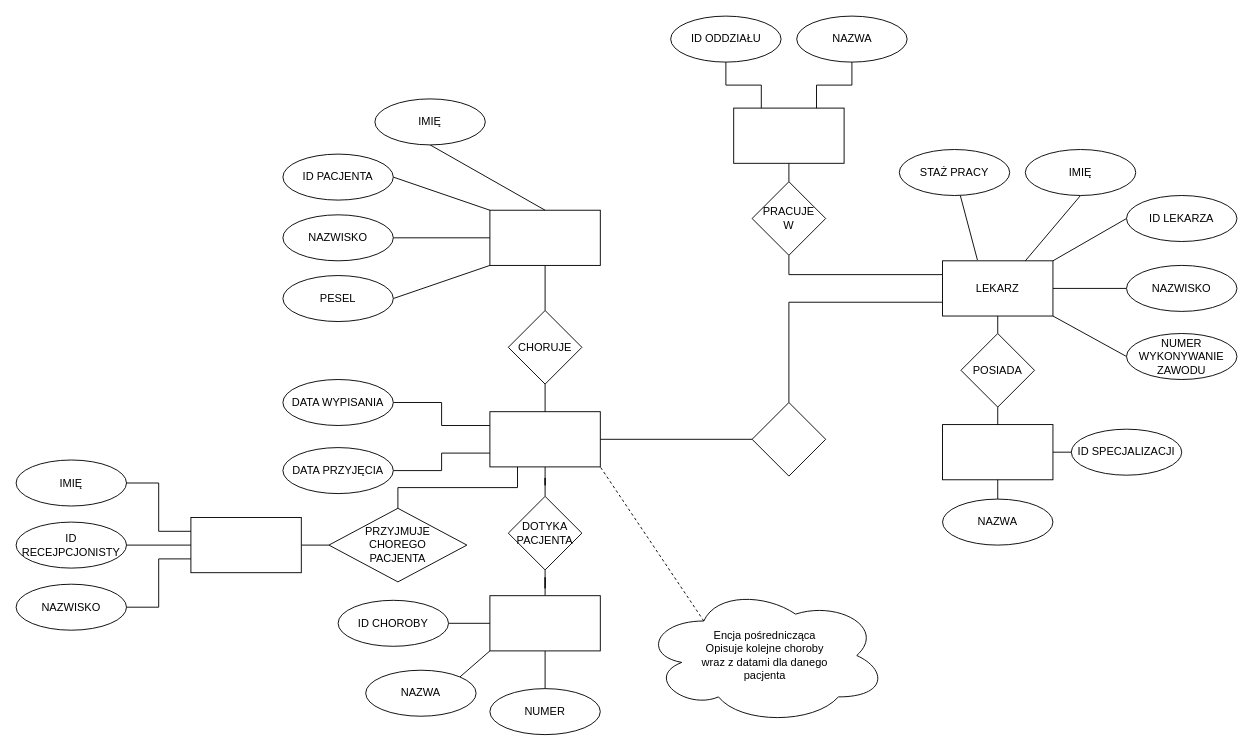
This 1253x751 diagram has some shape labels left out. Each missing label, with the centre of its shape:
"CHOROBA" goes at point (544, 623).
"CHOROBY PACJENTA" goes at point (544, 439).
"LEKARZ LECZY" goes at point (788, 439).
"ODDZIAŁ" goes at point (788, 135).
"PACJENT" goes at point (544, 237).
"RECEPCJONISTA" goes at point (245, 545).
"SPECJALIZACJA" goes at point (997, 452).
